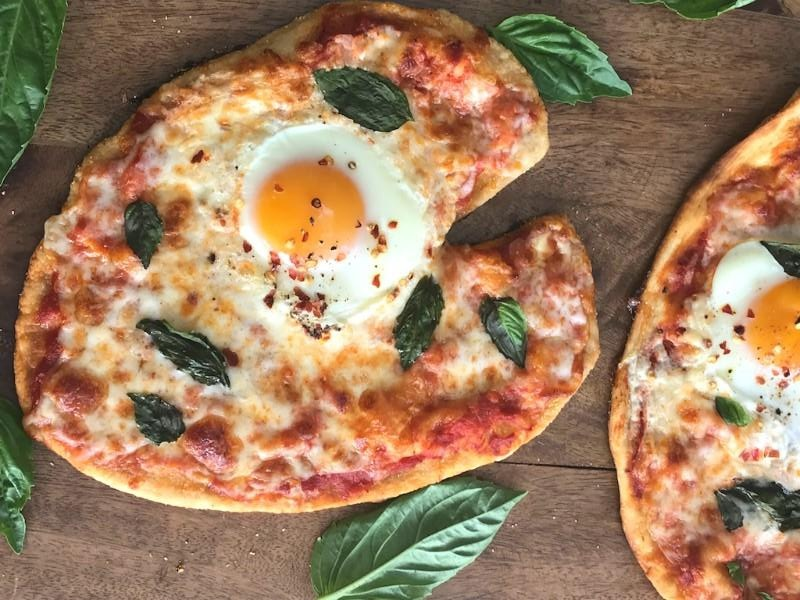oeuf: (249, 152, 379, 268), (733, 261, 800, 381)
